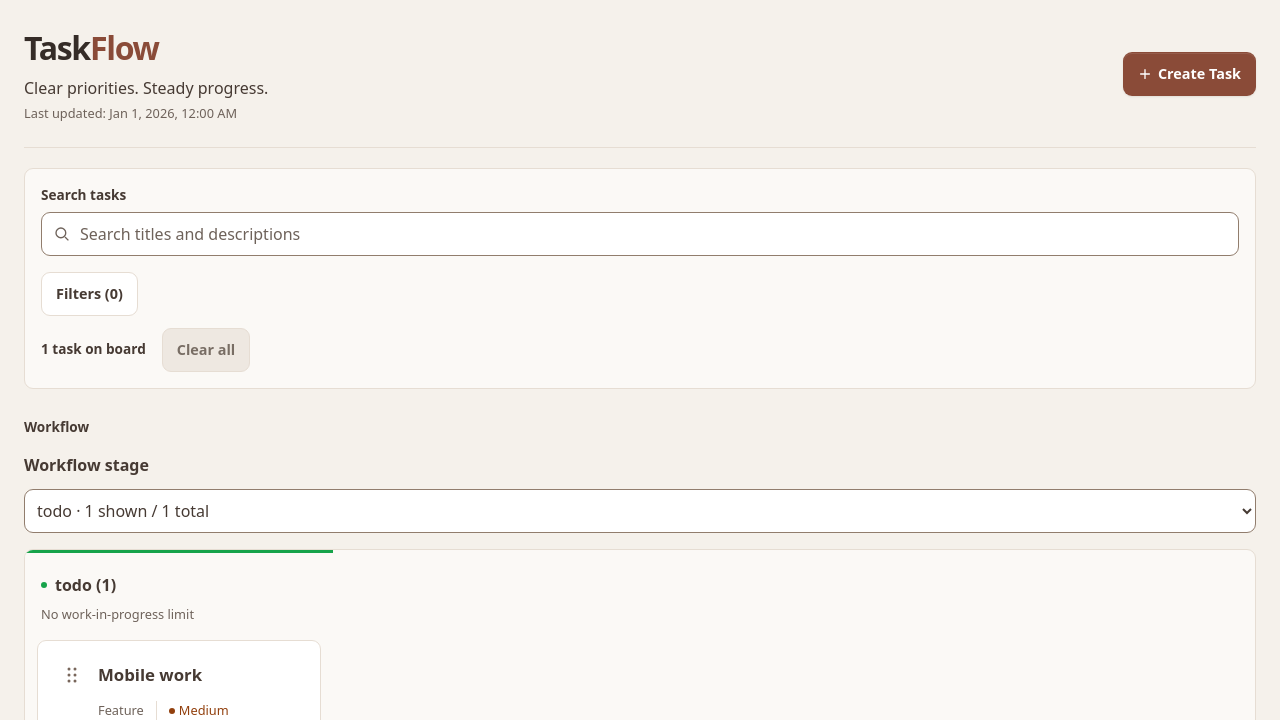
Test: provides a single mobile stage, explicit movement and continued focus without persisting navigation
Click the button with aria-label "Open task Mobile work". click: (203, 675)
box: [98,653,308,697]
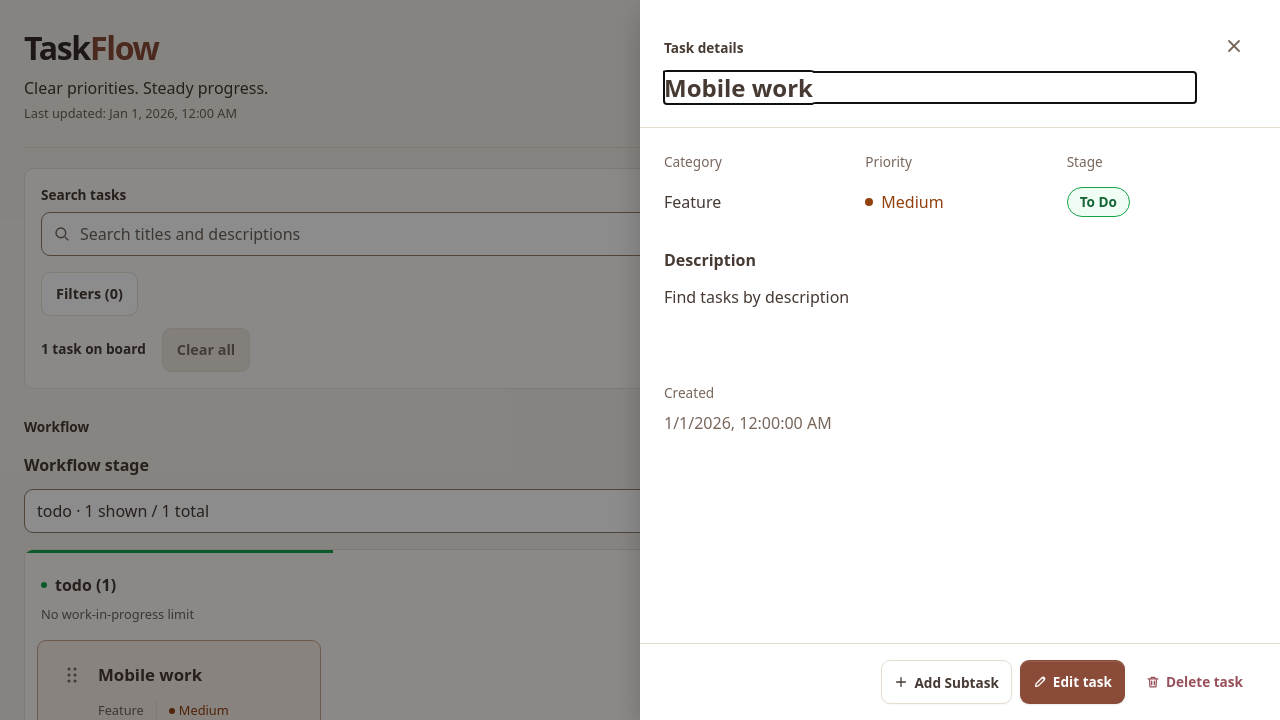
Click the button "Edit task". click: (1072, 682)
box: [1020,660,1125,704]
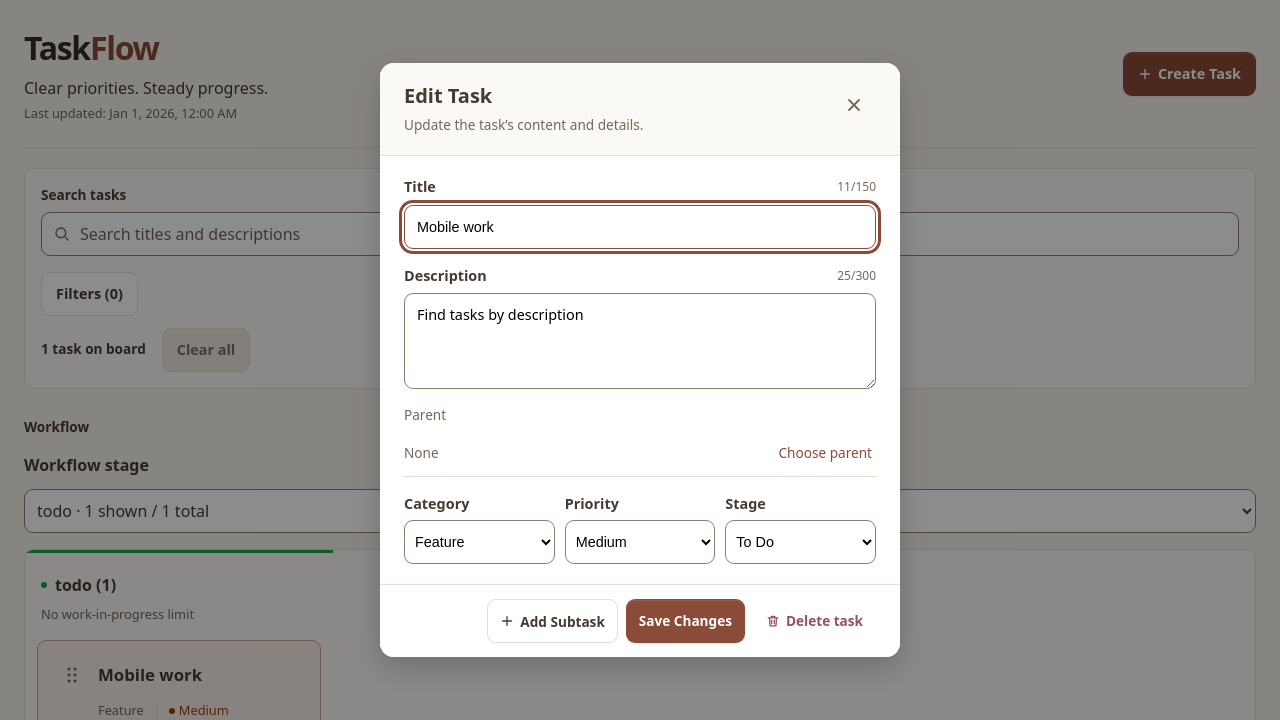
Select "In Progress" in the dropdown labelled "Stage". click: (801, 542)
box: [725,520,876,564]
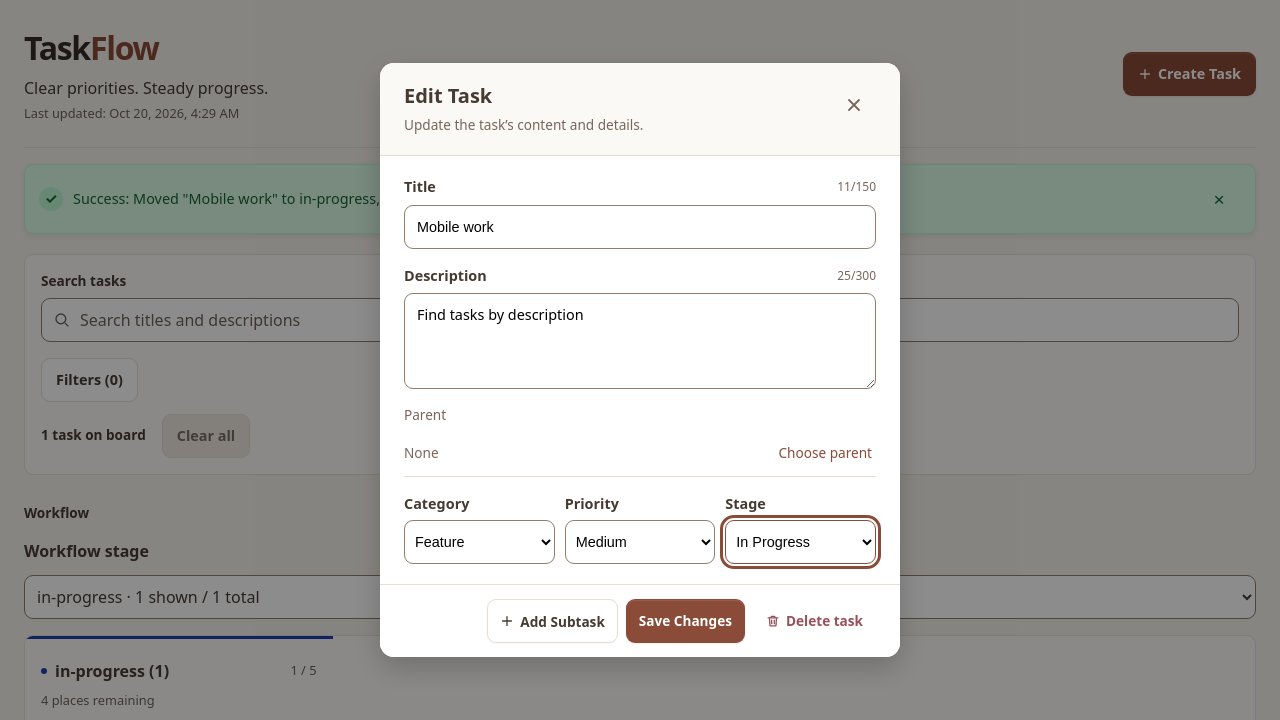
Click the button named "Close task editor". click: (854, 105)
box: [832,83,876,127]
(page scrolled)
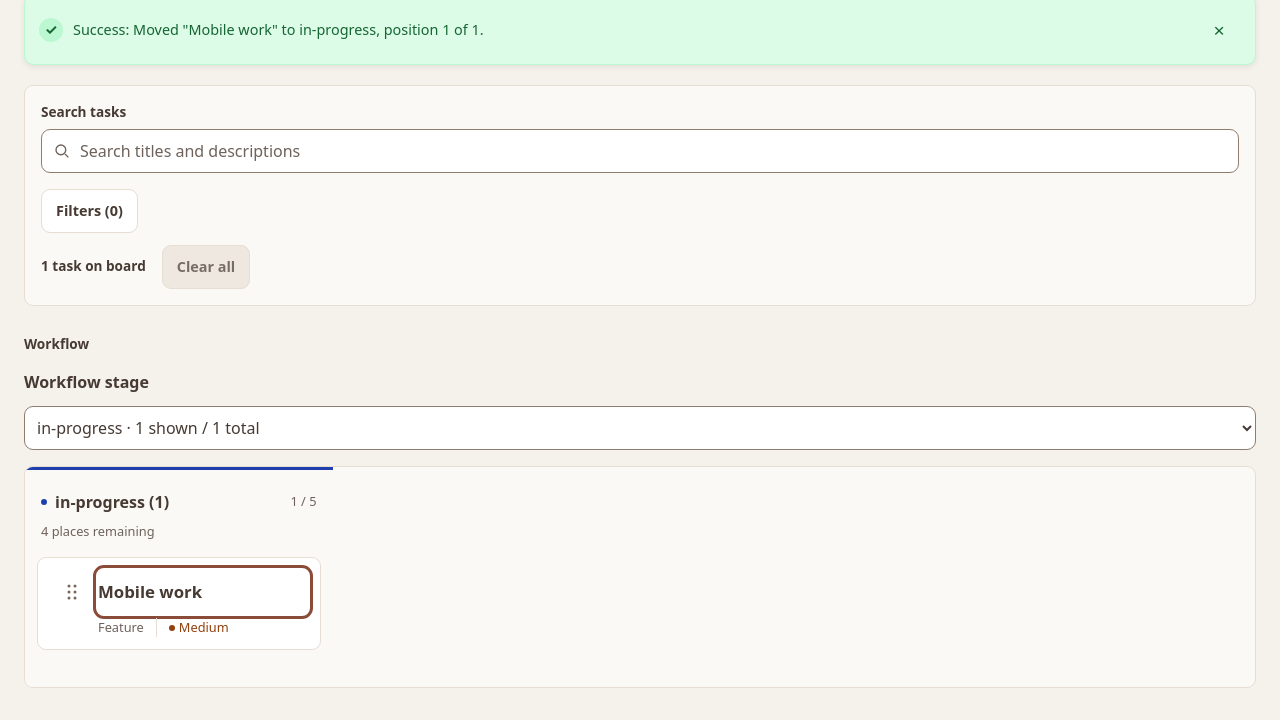
expect the dropdown labelled "Workflow stage" shows "in-progress · 1 shown / 1 total": met
Select "done · 0 shown / 0 total" in the dropdown labelled "Workflow stage". click: (640, 428)
box: [24,406,1256,450]
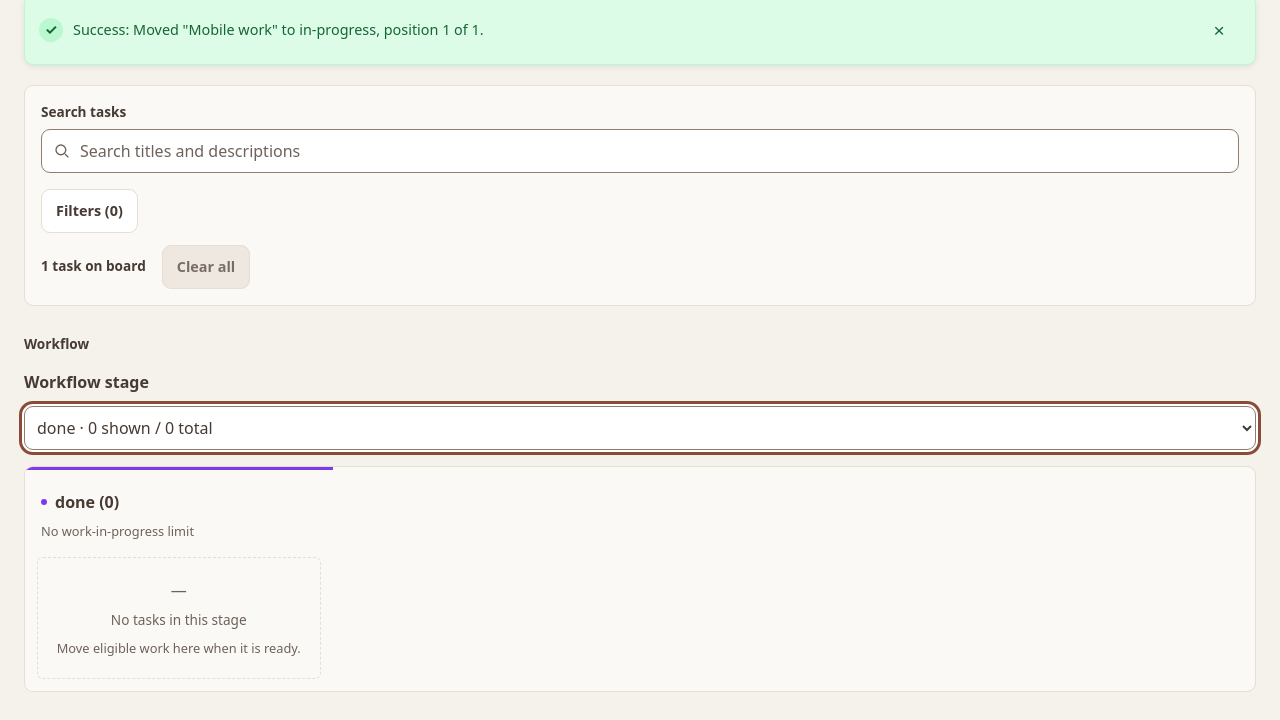
expect the element "done (0)" shows "No tasks in this stage": met, box [111,610,247,629]
